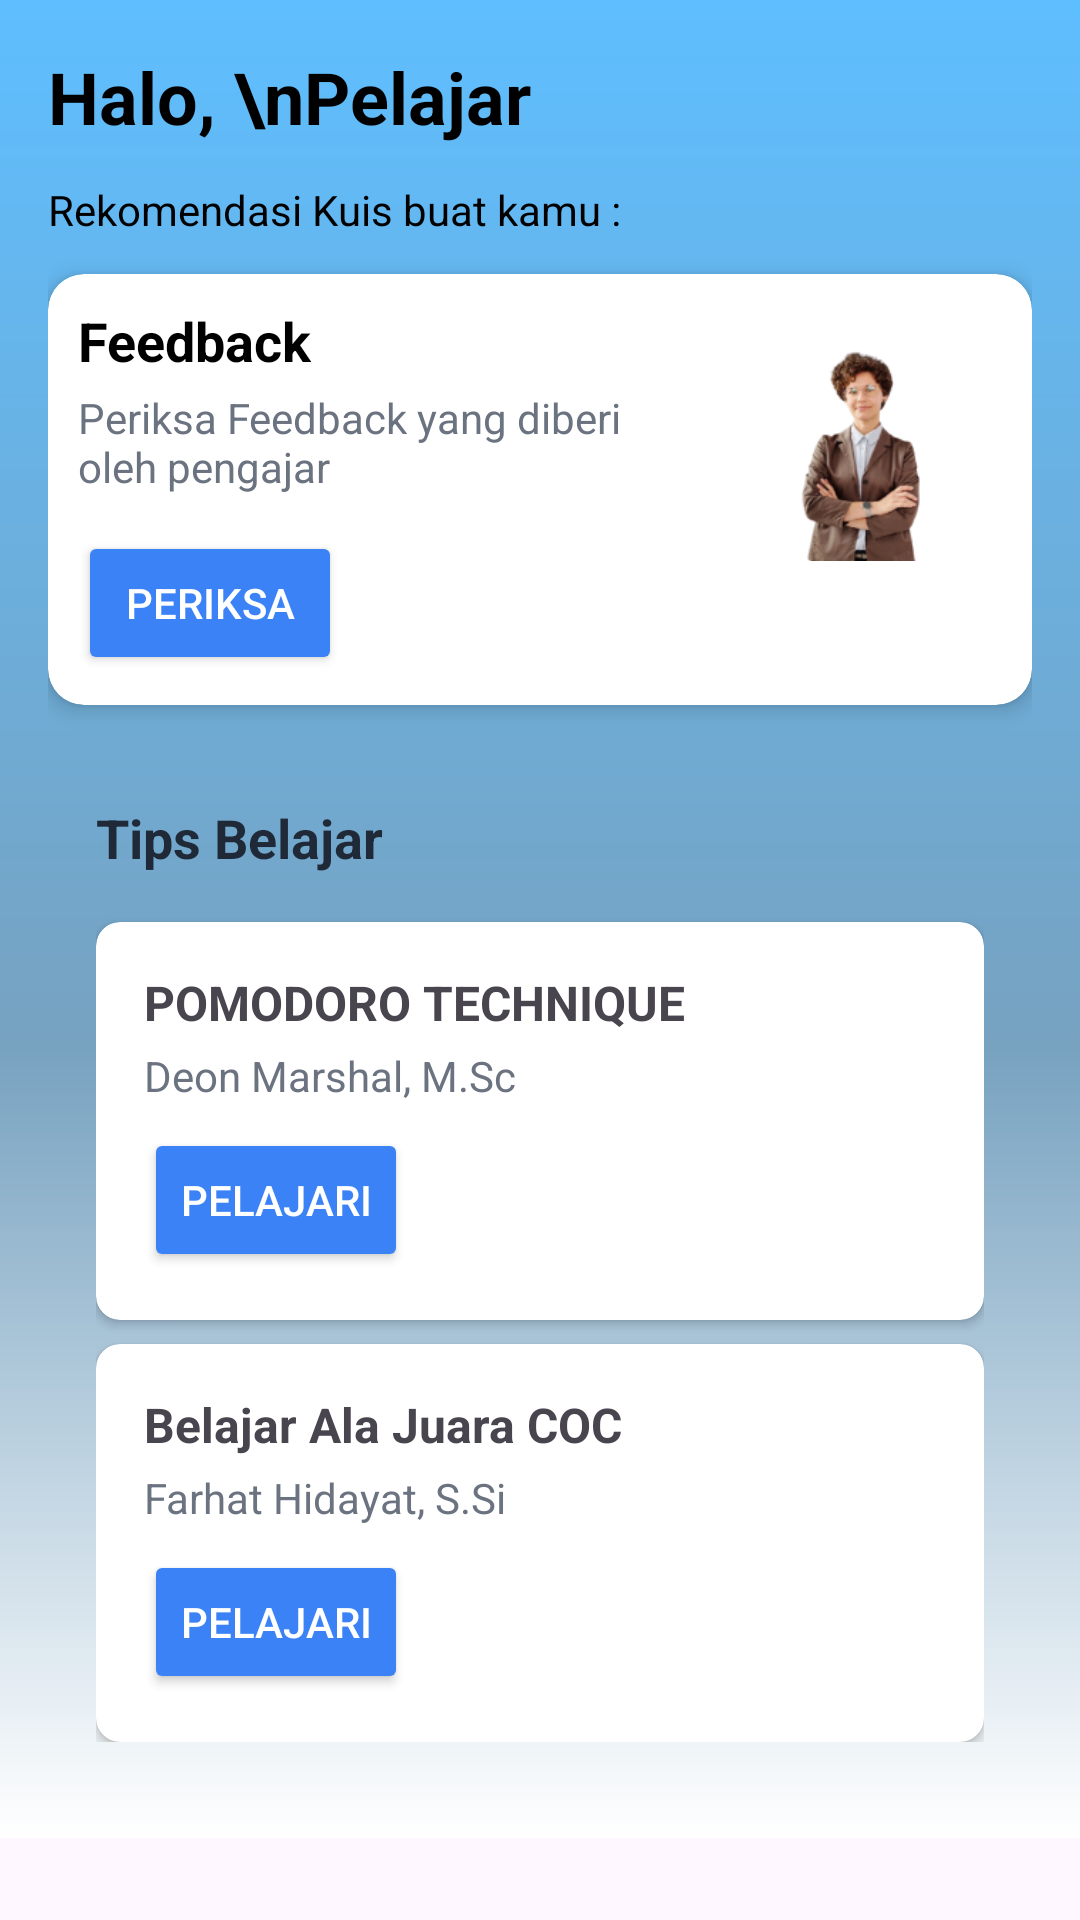

Icon click points for this 1080 × 1920 phone screenshot, format [x,y]:
Teacher Image: [861,456]
